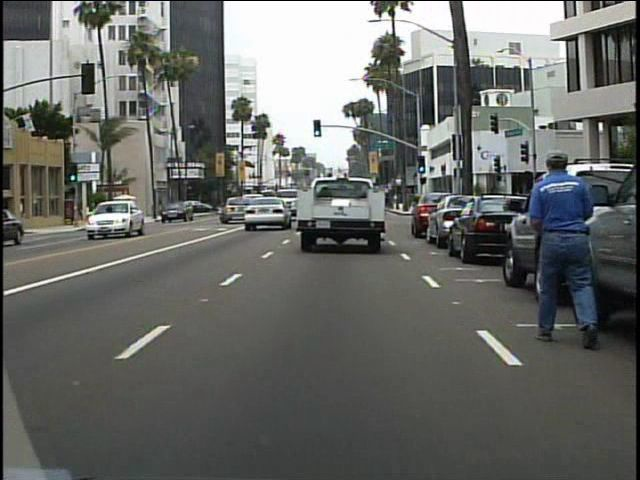person: (516, 143, 604, 354)
